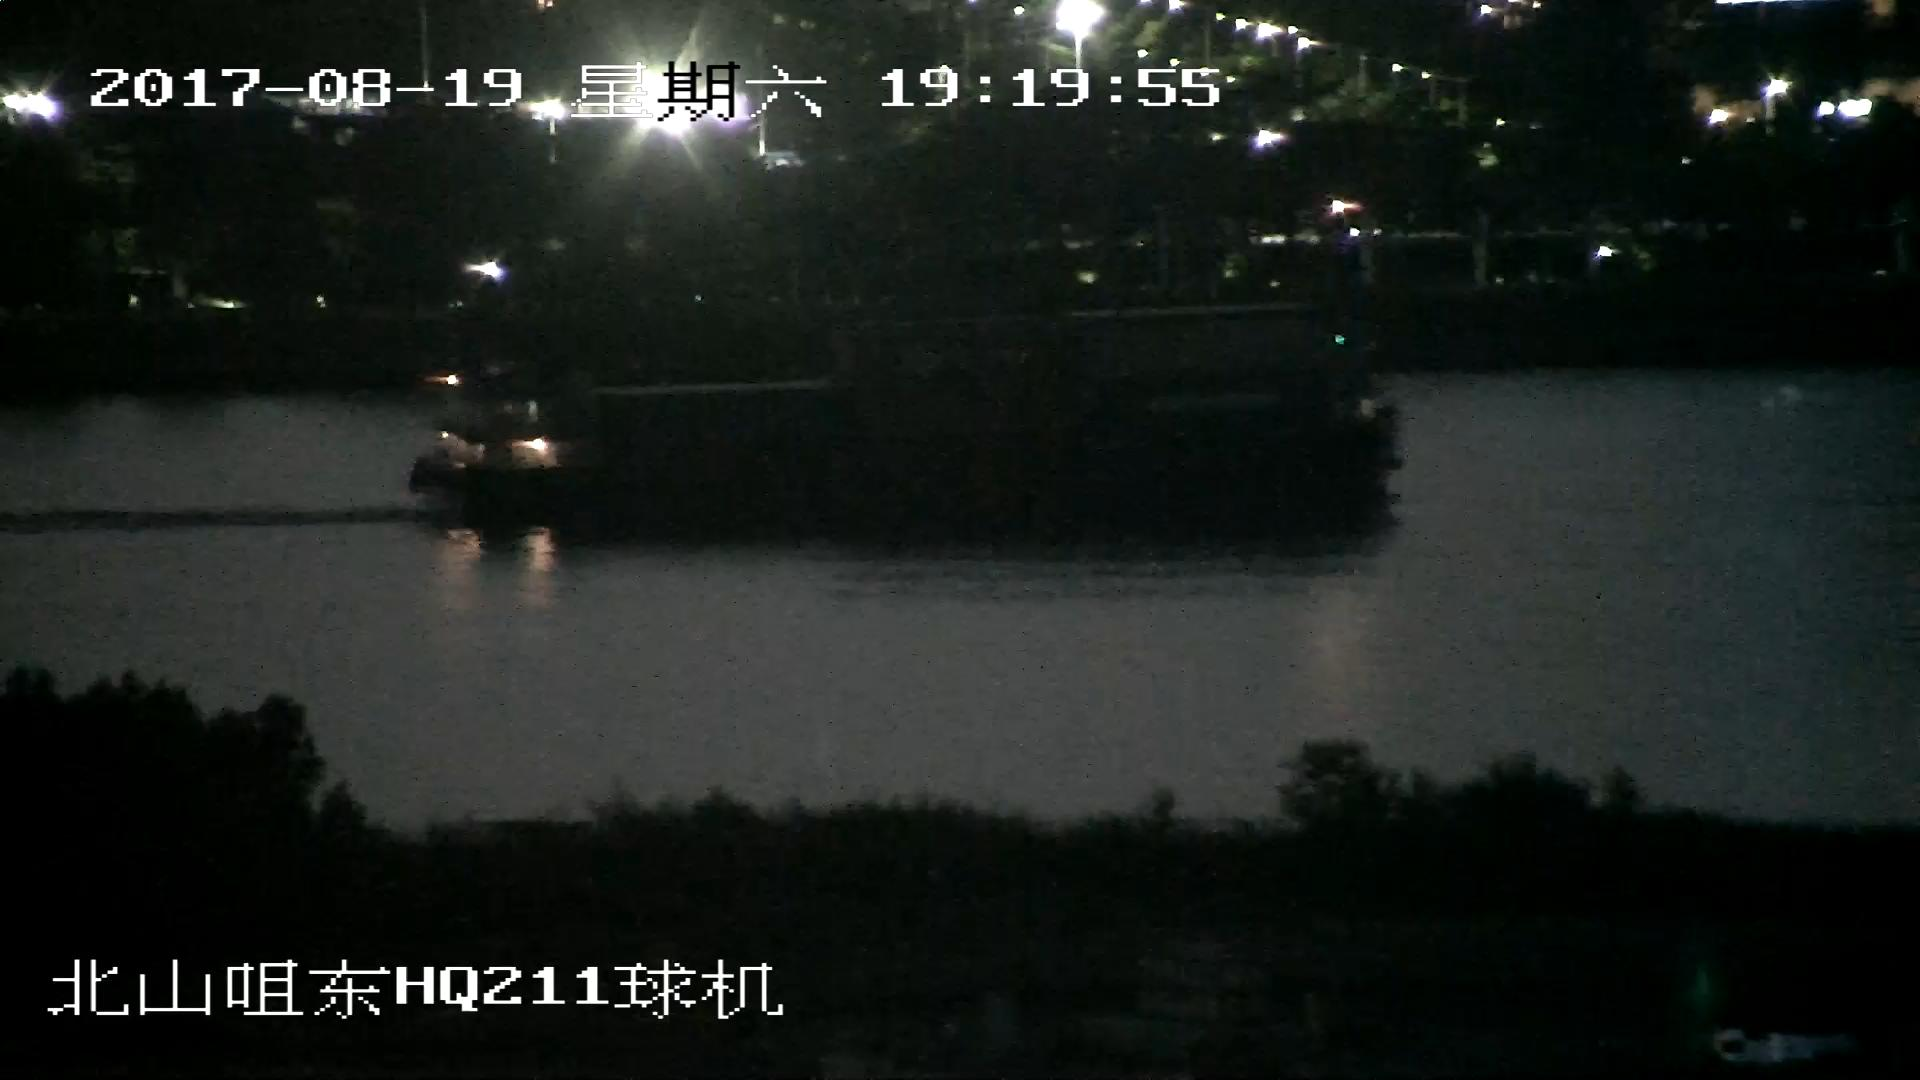container ship: (411, 312, 1400, 562)
